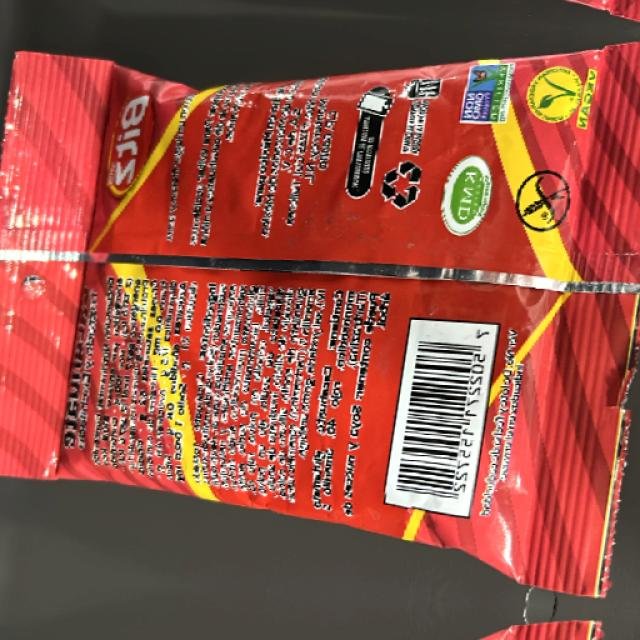productoAtras: (36, 64, 614, 546)
